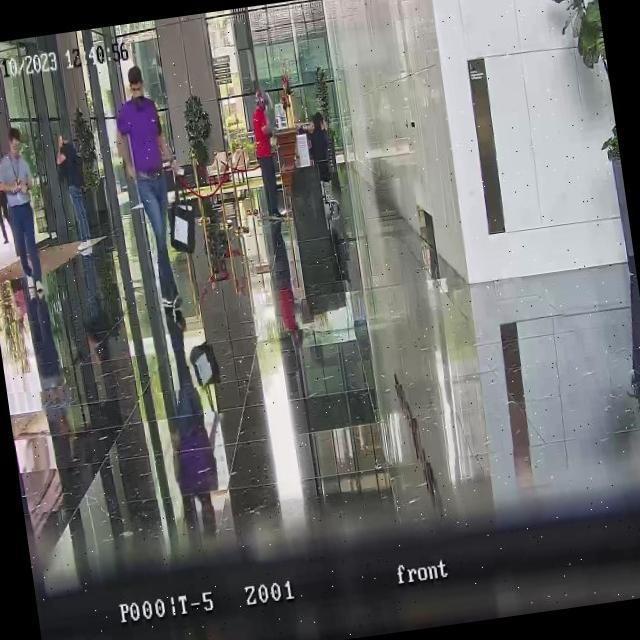person: (108, 60, 200, 314), (0, 125, 48, 295), (248, 86, 288, 222), (52, 130, 94, 246), (296, 113, 329, 176), (0, 153, 13, 246)
